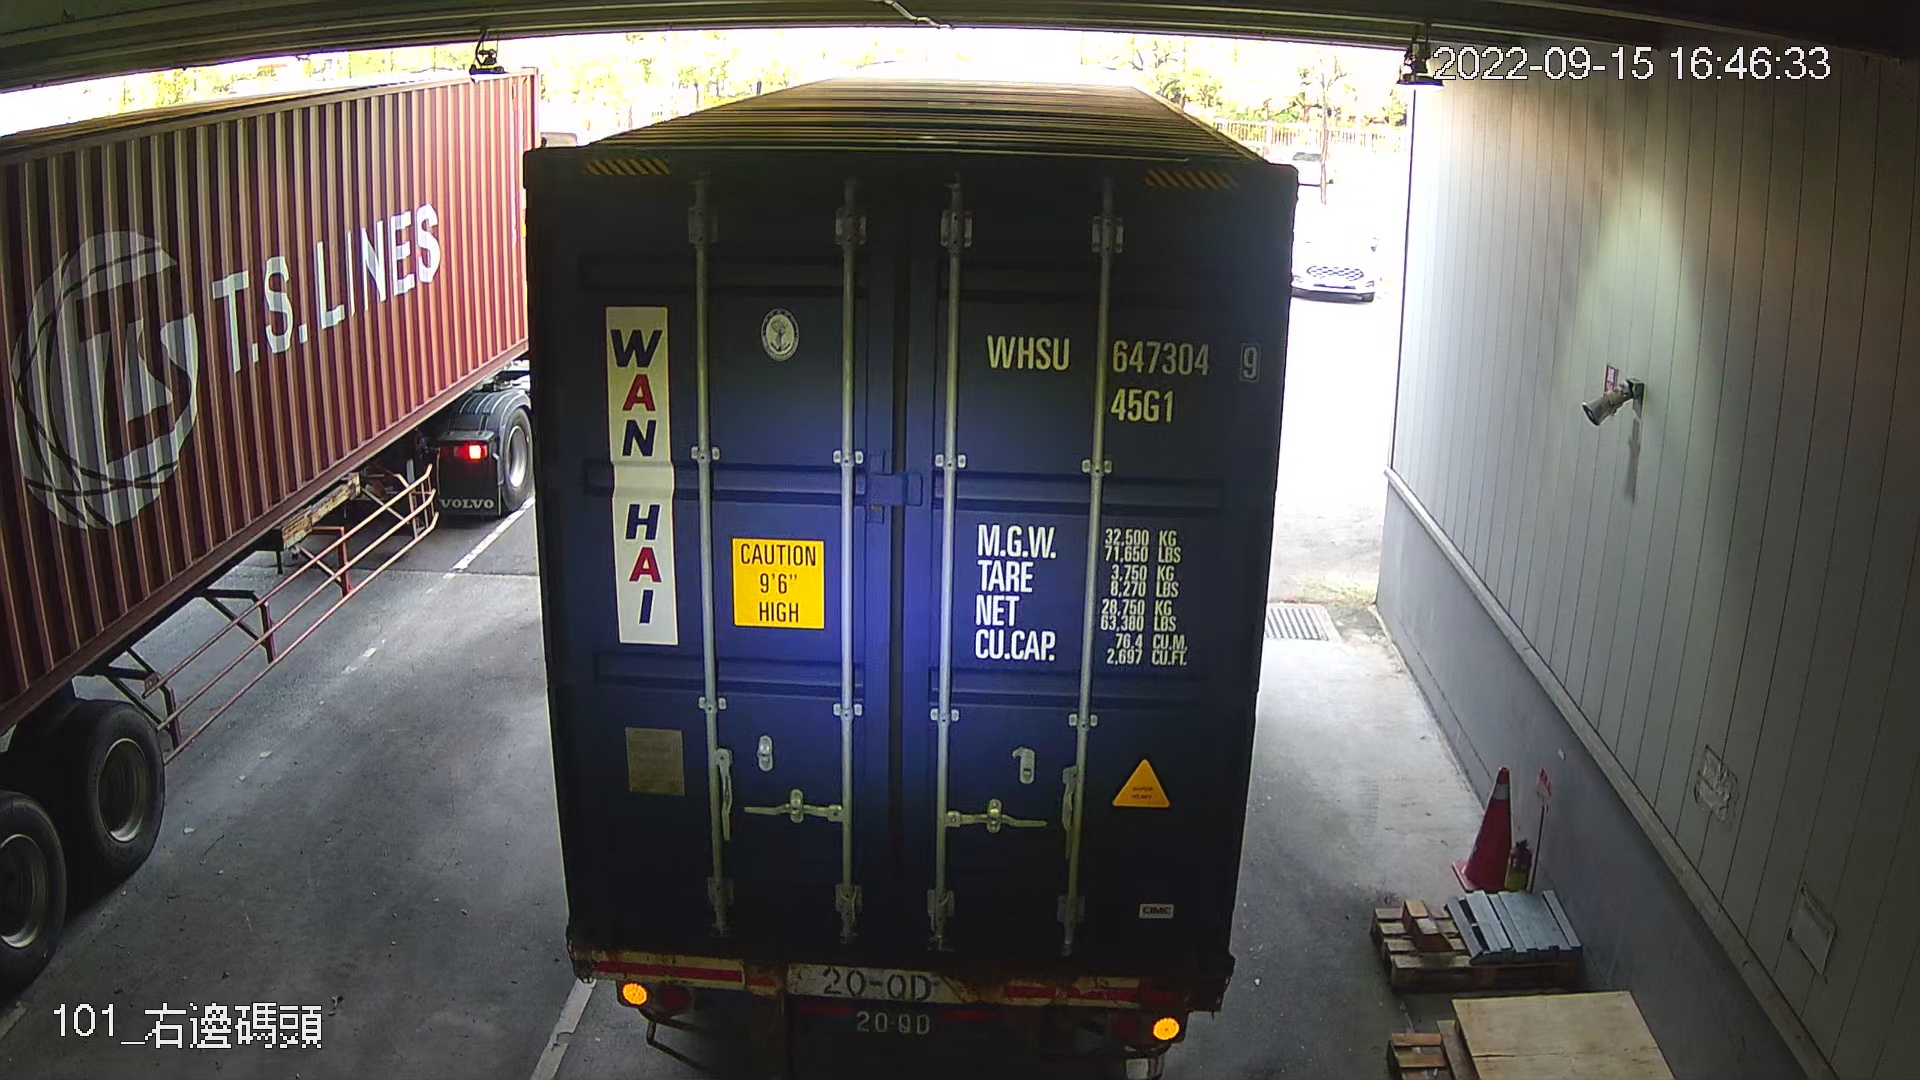container: (978, 326, 1270, 433)
